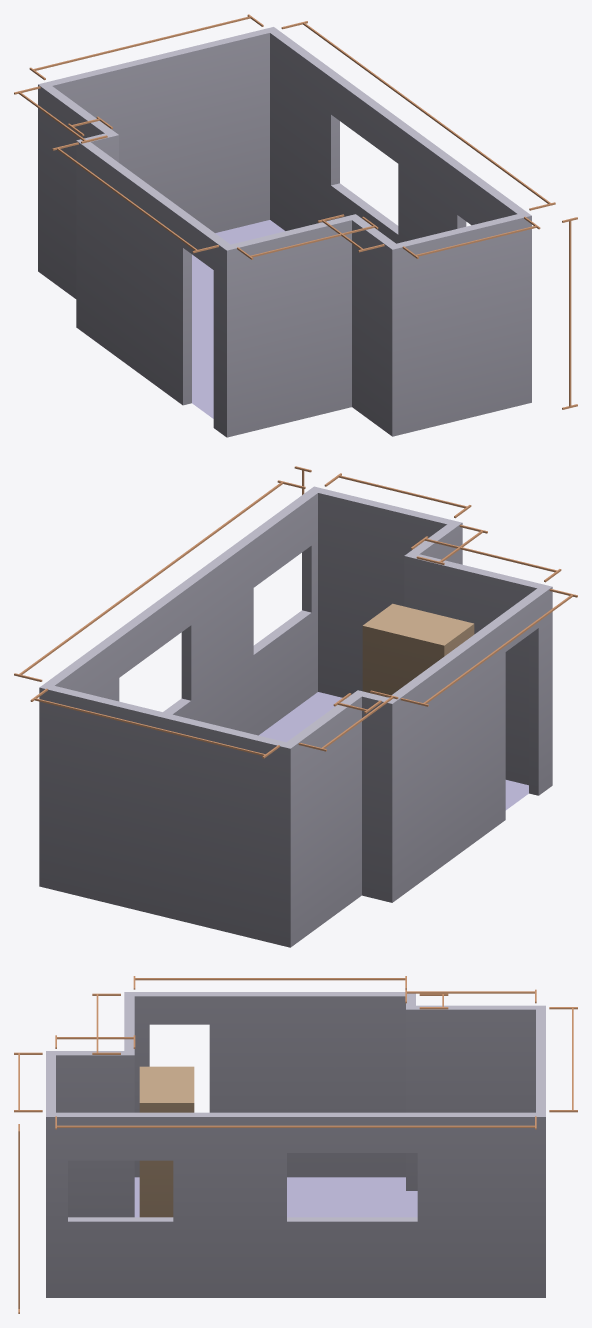
The model's file is room-bedroom1.glb.
3 renders of one model, top to bottom at view 1: azimuth 30°, elevation 25°; view 2: azimuth 150°, elevation 25°; view 3: azimuth 270°, elevation 25°, orthographic. The views are drawn at different scales.
Parts seen in each view (by area): view 1: bedroom1; view 2: bedroom1; view 3: bedroom1.
Part boxes in pixels (left/top/right/bottom): bedroom1: left=14, top=14, right=577, bottom=437; bedroom1: left=14, top=466, right=577, bottom=947; bedroom1: left=14, top=976, right=577, bottom=1313.
Bounding box in the file's own units: 4.31 × 2.41 × 6.69.
